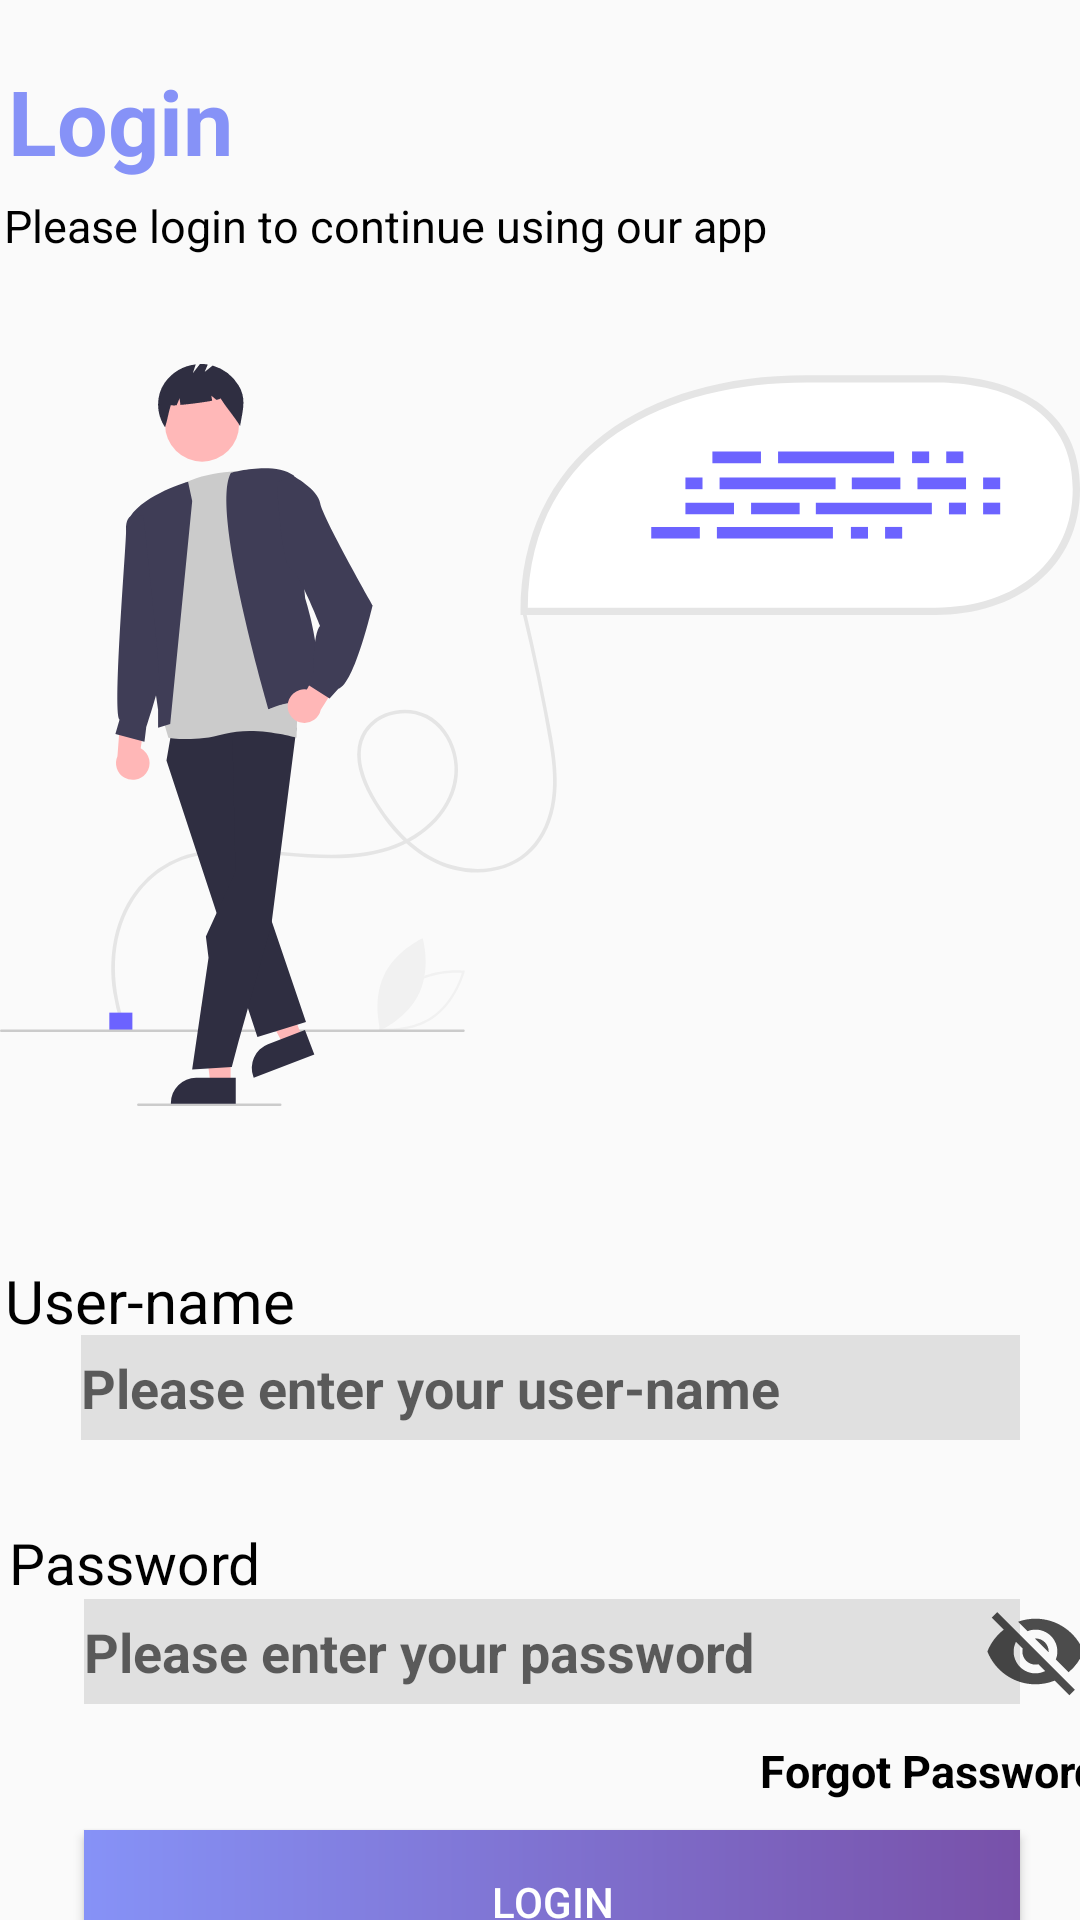

Point at icon controls on the screen. Image size 1080 x 1920, points as point (x, y).
hide password: point (1031, 1651)
